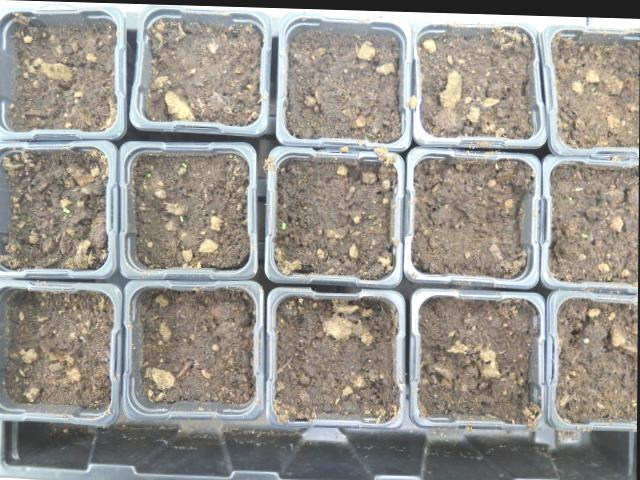weed: (277, 215, 289, 232), (59, 204, 73, 216)
